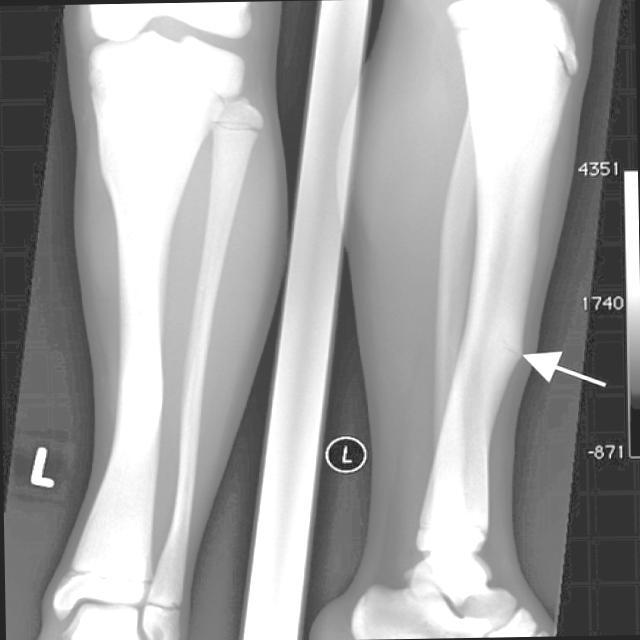HairLine Fracture: (505, 329, 528, 366)
